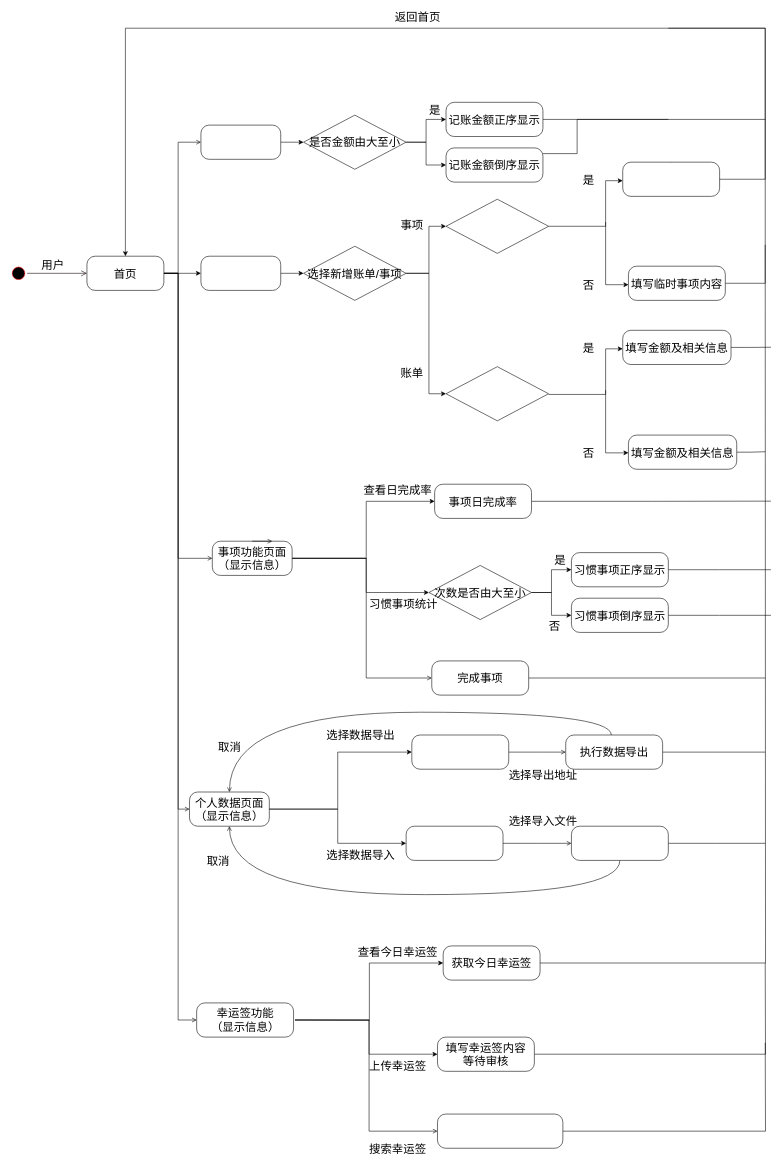
This 781x1165 diagram has some shape labels left out. Each missing label, with the centre of its shape:
"填写习惯事项内容" goes at (x=671, y=179).
"执行数据导入" goes at (x=619, y=843).
"按照署名搜索幸运签" goes at (x=500, y=1130).
"数据导入" goes at (x=454, y=843).
"数据导出" goes at (x=460, y=751).
"新增页面" goes at (x=240, y=273).
"是否习惯事项" goes at (x=497, y=226).
"是否收入" goes at (x=497, y=393).
"账本功能页面 （显示信息）" goes at (x=240, y=142).
